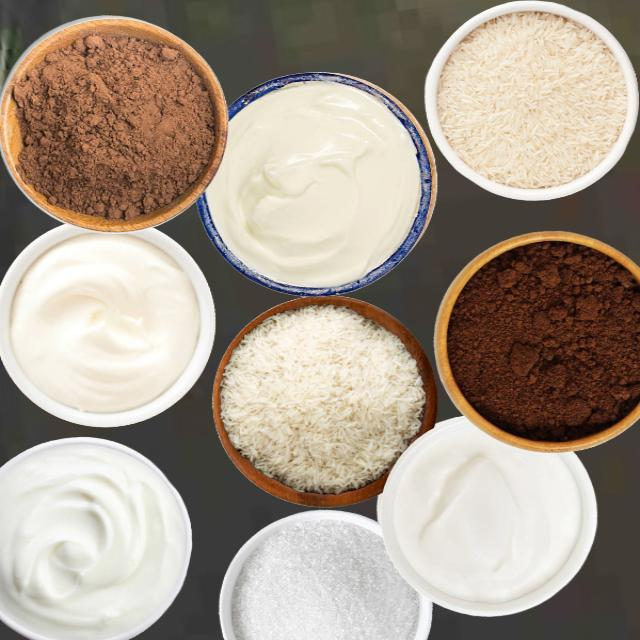Cocoa: (4, 17, 221, 227)
Coffee: (444, 237, 639, 442)
Sugar: (228, 508, 423, 640)
